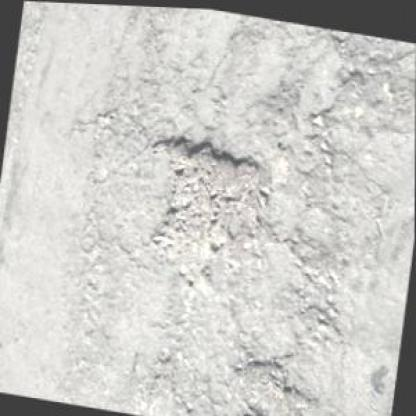pothole: (134, 121, 278, 282), (233, 348, 313, 412)
